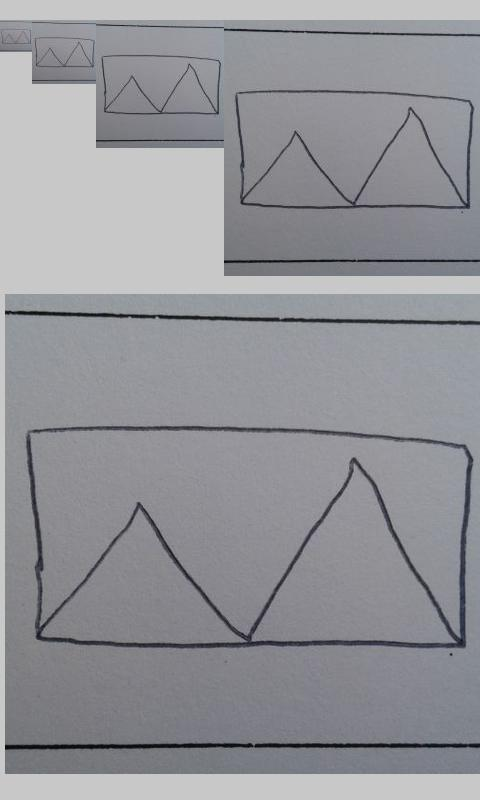image_view: (25, 422, 472, 651), (231, 87, 476, 216), (101, 55, 222, 116), (34, 36, 95, 68), (1, 28, 32, 45)
